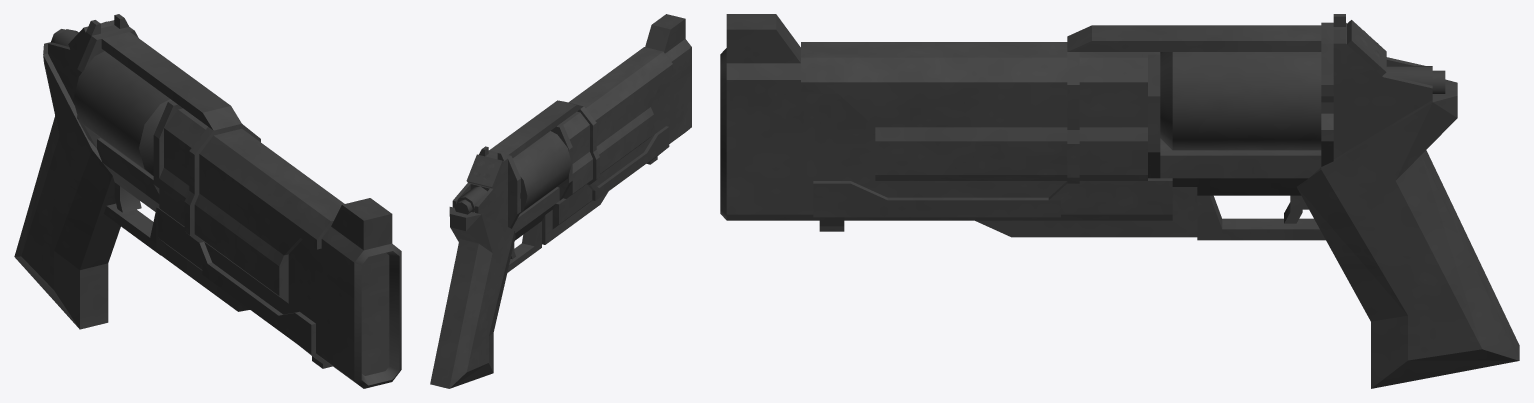
Rendered from bobble_accessory_revolver.obj.
The picture shows the model from 3 angles, left to right: view 1: azimuth 30°, elevation 25°; view 2: azimuth 150°, elevation 25°; view 3: azimuth 270°, elevation 25°; orthographic projection. The views are drawn at different scales.
Parts seen in each view (by area): view 1: FrameDark, FrameLight, Grip, Cylinder, Barrel; view 2: FrameDark, FrameLight, Grip, Cylinder; view 3: FrameDark, FrameLight, Grip, Cylinder.
Boxes of the visible parts, <box> form: FrameDark: <box>48,14,401,388</box>; FrameLight: <box>50,20,344,303</box>; Grip: <box>14,42,120,329</box>; Cylinder: <box>73,51,171,176</box>; Barrel: <box>361,252,389,375</box>; FrameDark: <box>452,14,691,244</box>; FrameLight: <box>454,47,672,272</box>; Grip: <box>430,207,515,388</box>; Cylinder: <box>512,131,571,213</box>; FrameDark: <box>720,14,1432,237</box>; FrameLight: <box>801,20,1445,240</box>; Grip: <box>1297,79,1519,388</box>; Cylinder: <box>1160,52,1321,150</box>.
Bounding box in the file's own units: 1.12 × 4 × 8.06.
